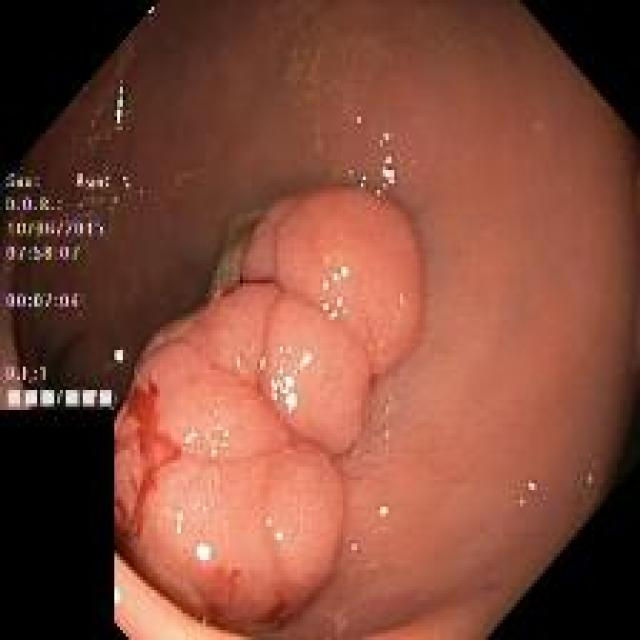Polyps: (115, 187, 424, 631)
